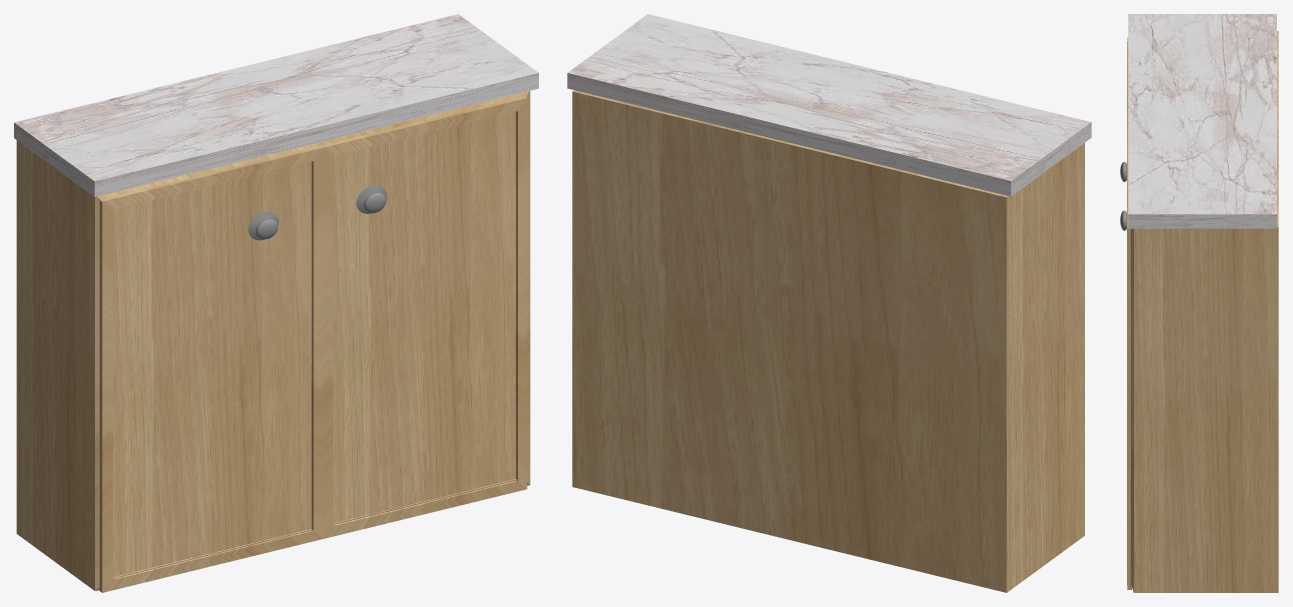
File: cabinet_pintu.FBX
3 renders of one model, left to right at view 1: azimuth 30°, elevation 25°; view 2: azimuth 150°, elevation 25°; view 3: azimuth 270°, elevation 25°, orthographic. The views are drawn at different scales.
Parts seen in each view (by area): view 1: body_cabinet, Top, handles; view 2: body_cabinet, Top; view 3: body_cabinet, Top, handles.
Part boxes in pixels (x1,y1,x2,y2): body_cabinet: (16, 91, 530, 592); Top: (14, 14, 538, 196); handles: (248, 185, 386, 240); body_cabinet: (572, 90, 1084, 592); Top: (567, 14, 1091, 196); body_cabinet: (1127, 31, 1278, 592); Top: (1128, 14, 1276, 228); handles: (1120, 161, 1126, 230).
Size of the model in its own units: 3.14 by 2.79 by 1.05.
3 materials, 2 textured.
